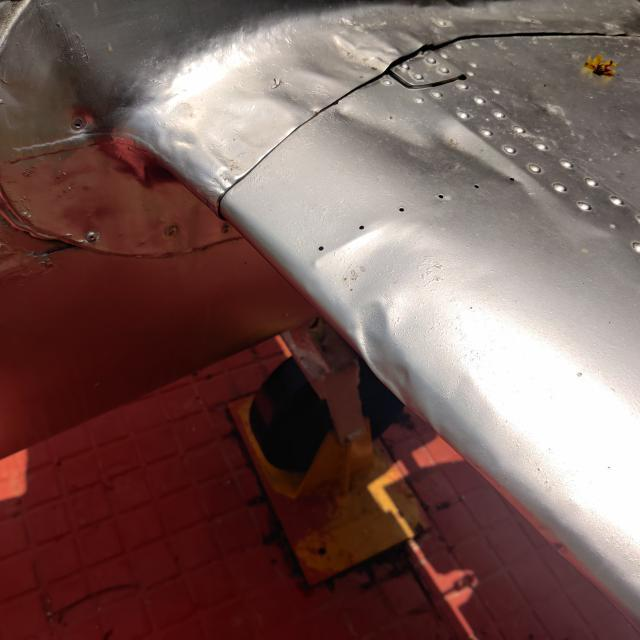dent: (325, 94, 535, 203), (343, 286, 432, 416)
